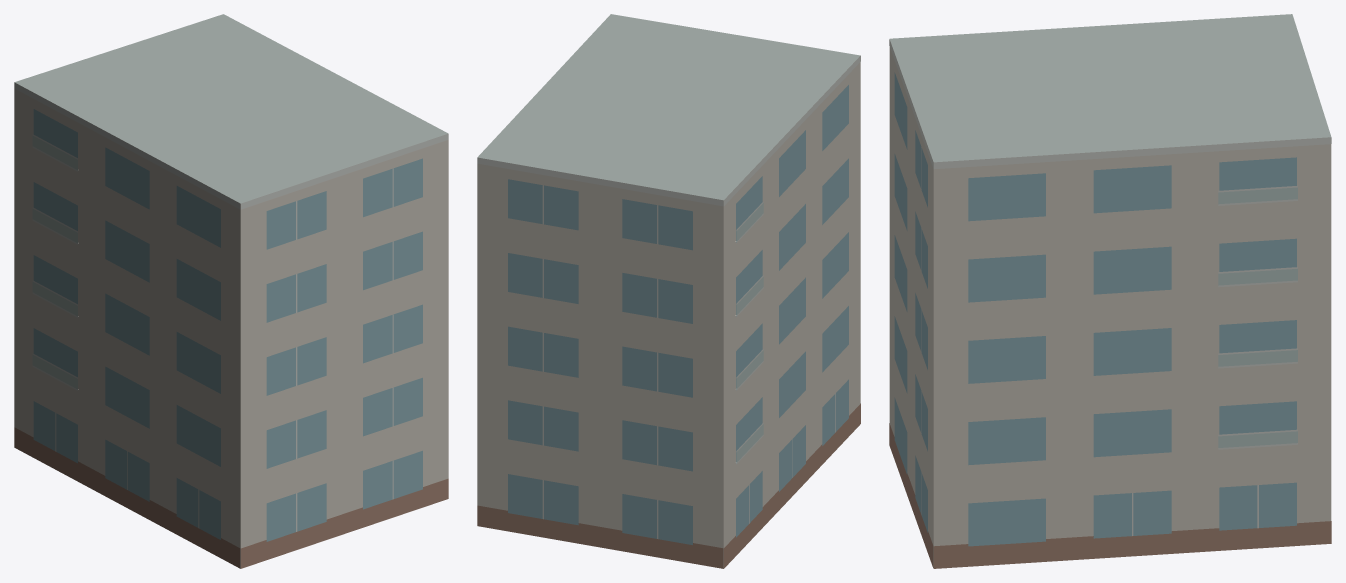
File: survey-upis-32533168.glb
3 renders of one model, left to right at view 1: azimuth 30°, elevation 25°; view 2: azimuth 150°, elevation 25°; view 3: azimuth 270°, elevation 25°, orthographic. The views are drawn at different scales.
Visible parts, largest first — view 1: survey-upis-32533168.tmp; view 2: survey-upis-32533168.tmp; view 3: survey-upis-32533168.tmp.
Boxes of the visible parts, x1,y1,x2,y2 form: survey-upis-32533168.tmp: (14,14,448,568); survey-upis-32533168.tmp: (477,14,860,568); survey-upis-32533168.tmp: (889,14,1331,568).
Bounding box in the file's own units: 11.36 × 14.5 × 14.3.
